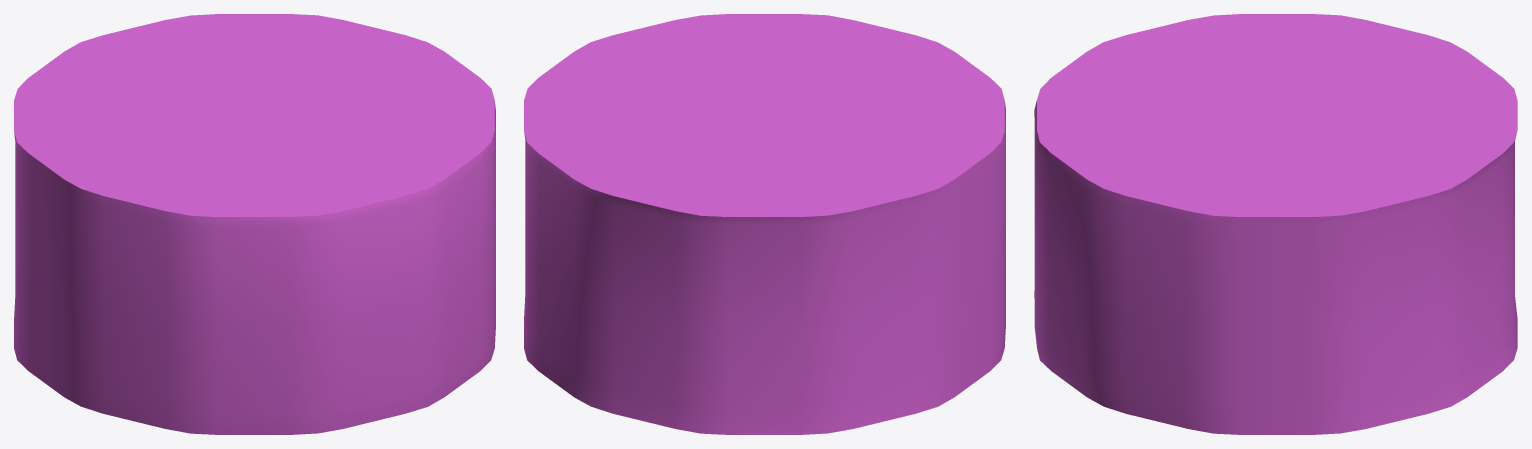
Rendered from SM_CircusPlatform.fbx.
The picture shows the model from 3 angles, left to right: view 1: azimuth 30°, elevation 25°; view 2: azimuth 150°, elevation 25°; view 3: azimuth 270°, elevation 25°; orthographic projection.
Visible parts, largest first — view 1: CircusPlatform_low; view 2: CircusPlatform_low; view 3: CircusPlatform_low.
Boxes of the visible parts, left/top/right/bottom form: CircusPlatform_low: left=14, top=14, right=495, bottom=434; CircusPlatform_low: left=524, top=14, right=1005, bottom=434; CircusPlatform_low: left=1034, top=14, right=1517, bottom=434.
Size of the model in its own units: 47.2 by 23.6 by 47.43.
